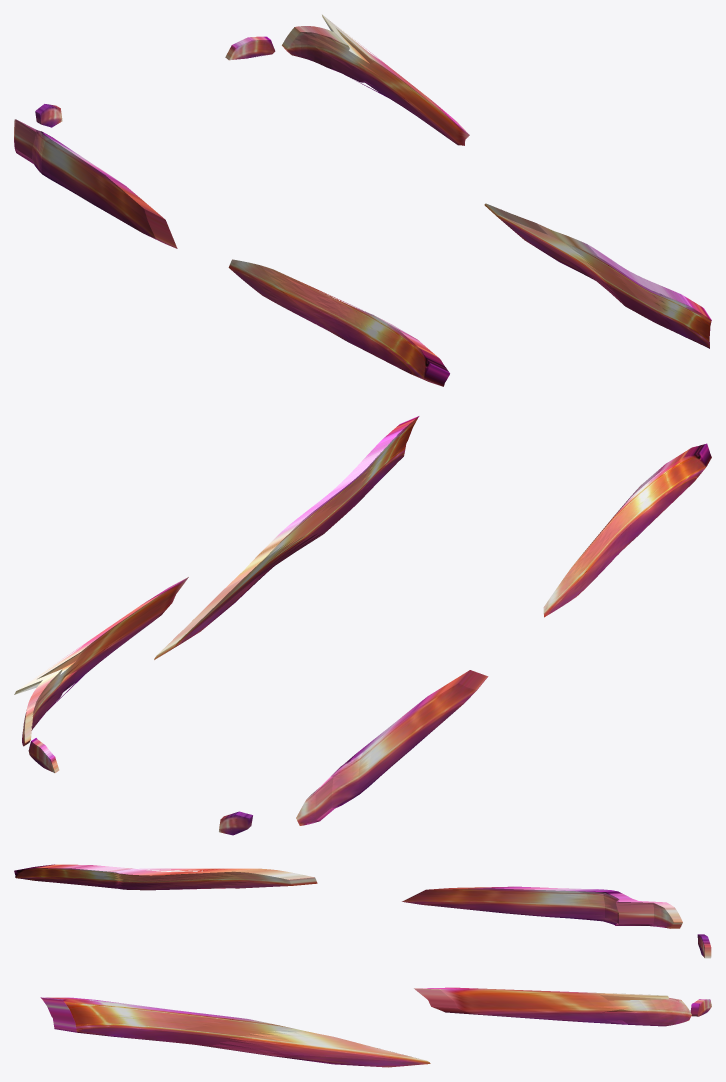
Rendered from lids05e.glb.
3 renders of one model, top to bottom at view 1: azimuth 30°, elevation 25°; view 2: azimuth 150°, elevation 25°; view 3: azimuth 270°, elevation 25°, orthographic. The views are drawn at different scales.
Parts seen in each view (by area): view 1: lid05_L1, lid05_R1, lid05_L2, lid05_R2, lid05_R3; view 2: lid05_R1, lid05_L2, lid05_L1, lid05_R2; view 3: lid05_R1, lid05_R2, lid05_L2, lid05_L1.
Part boxes in pixels (left/top/right/bottom): lid05_L1: left=228, top=259, right=449, bottom=386; lid05_R1: left=484, top=203, right=711, bottom=348; lid05_L2: left=14, top=119, right=177, bottom=248; lid05_R2: left=282, top=14, right=469, bottom=145; lid05_R3: left=225, top=36, right=275, bottom=60; lid05_R1: left=154, top=416, right=419, bottom=659; lid05_L2: left=296, top=670, right=488, bottom=825; lid05_L1: left=543, top=443, right=711, bottom=617; lid05_R2: left=14, top=577, right=188, bottom=746; lid05_R1: left=40, top=997, right=430, bottom=1067; lid05_R2: left=414, top=987, right=691, bottom=1026; lid05_L2: left=402, top=886, right=682, bottom=928; lid05_L1: left=14, top=864, right=317, bottom=890.
Bounding box in the file's own units: 15.74 × 5.08 × 36.83.
1 material, 1 textured.
